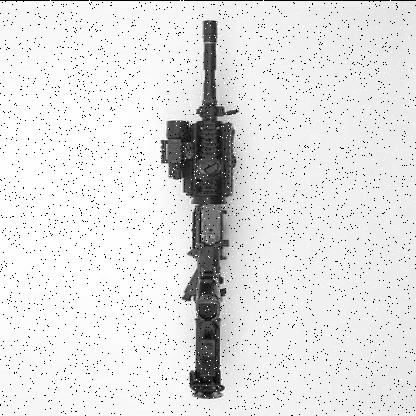rifle: (140, 16, 262, 400)
